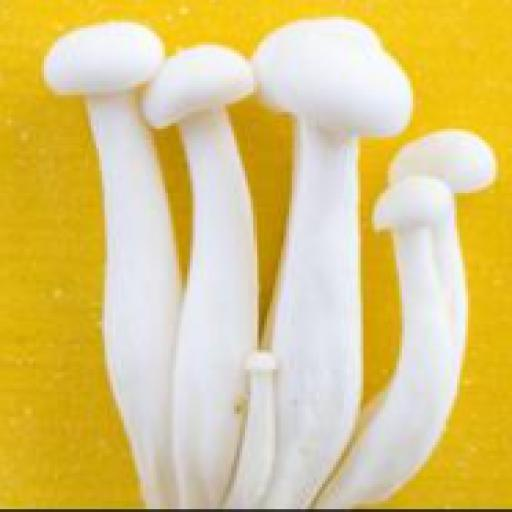Enoki Mushroom: (44, 11, 503, 485)
